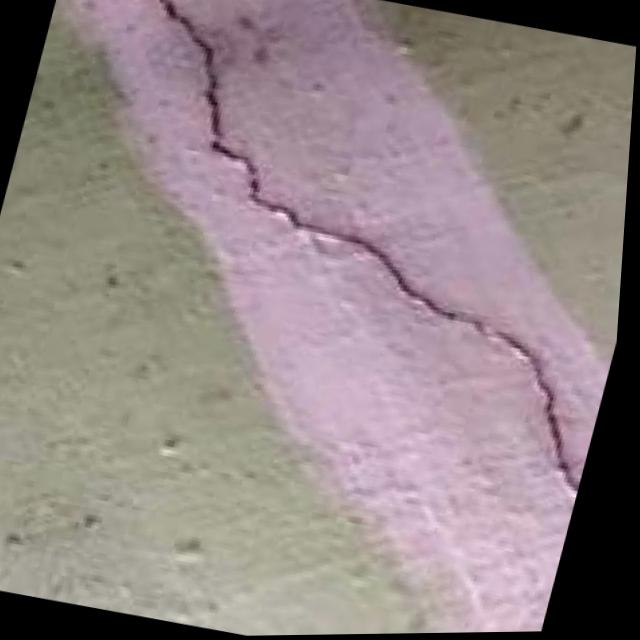Crack: (15, 0, 640, 529)
